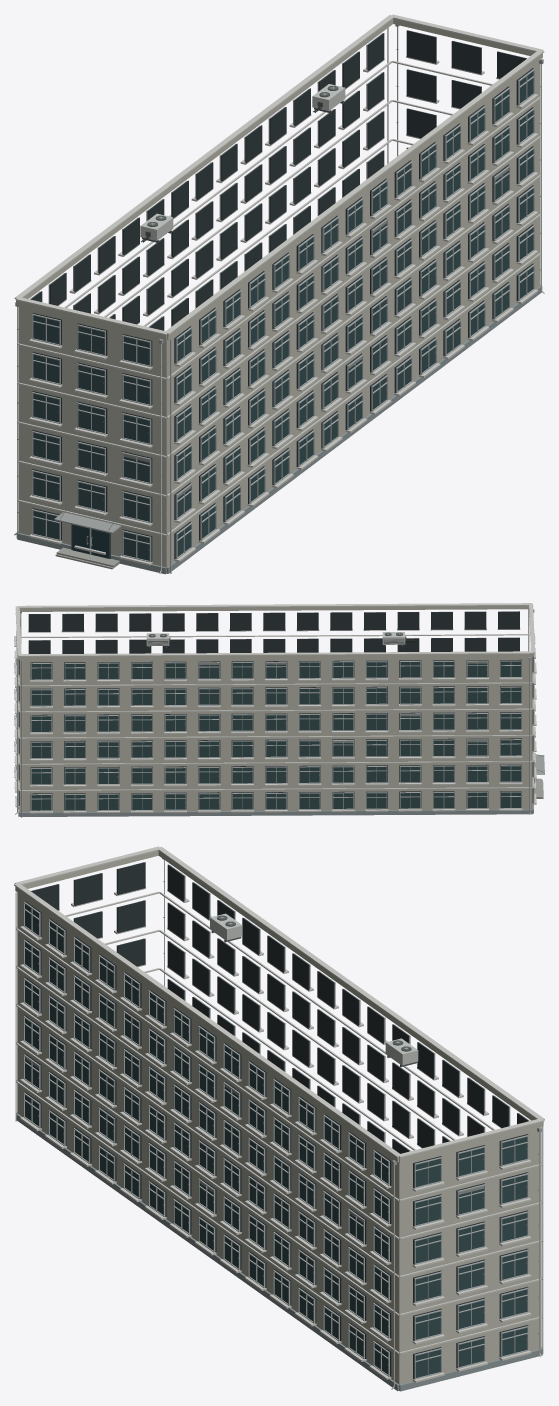
Rendered from osm_way_225265327.glb.
3 views of the same model, one above another, from view 1: azimuth 30°, elevation 25°; view 2: azimuth 150°, elevation 25°; view 3: azimuth 270°, elevation 25° (orthographic). The views are drawn at different scales.
Parts seen in each view (by area): view 1: Windows and facade details | osm_way_225265327, Architecture | osm_way_225265327, Roof services | osm_way_225265327, EXTERIOR::osm_way_225265327::rainwater and roof service deta, EXTERIOR::osm_way_225265327::inferred entry doors canopy and; view 2: Windows and facade details | osm_way_225265327, Architecture | osm_way_225265327, Roof services | osm_way_225265327, EXTERIOR::osm_way_225265327::rainwater and roof service deta, EXTERIOR::osm_way_225265327::inferred entry doors canopy and, EXTERIOR::osm_way_225265327::native pane seals and hardware; view 3: Windows and facade details | osm_way_225265327, Architecture | osm_way_225265327, Roof services | osm_way_225265327, EXTERIOR::osm_way_225265327::rainwater and roof service deta.
Part boxes in pixels (x1,y1,x2,y2): Windows and facade details | osm_way_225265327: [29, 27, 538, 573]; Architecture | osm_way_225265327: [16, 19, 542, 574]; Roof services | osm_way_225265327: [14, 14, 544, 335]; EXTERIOR::osm_way_225265327::rainwater and roof service deta: [14, 24, 544, 573]; EXTERIOR::osm_way_225265327::inferred entry doors canopy and: [54, 507, 121, 569]; Windows and facade details | osm_way_225265327: [14, 609, 536, 817]; Architecture | osm_way_225265327: [18, 605, 534, 816]; Roof services | osm_way_225265327: [15, 603, 534, 656]; EXTERIOR::osm_way_225265327::rainwater and roof service deta: [15, 609, 534, 814]; EXTERIOR::osm_way_225265327::inferred entry doors canopy and: [534, 754, 544, 798]; EXTERIOR::osm_way_225265327::native pane seals and hardware: [50, 661, 487, 803]; Windows and facade details | osm_way_225265327: [15, 862, 543, 1382]; Architecture | osm_way_225265327: [15, 850, 543, 1391]; Roof services | osm_way_225265327: [14, 846, 544, 1157]; EXTERIOR::osm_way_225265327::rainwater and roof service deta: [162, 858, 541, 1389].
Size of the model in its own units: 55.81 by 20.58 by 40.33.
